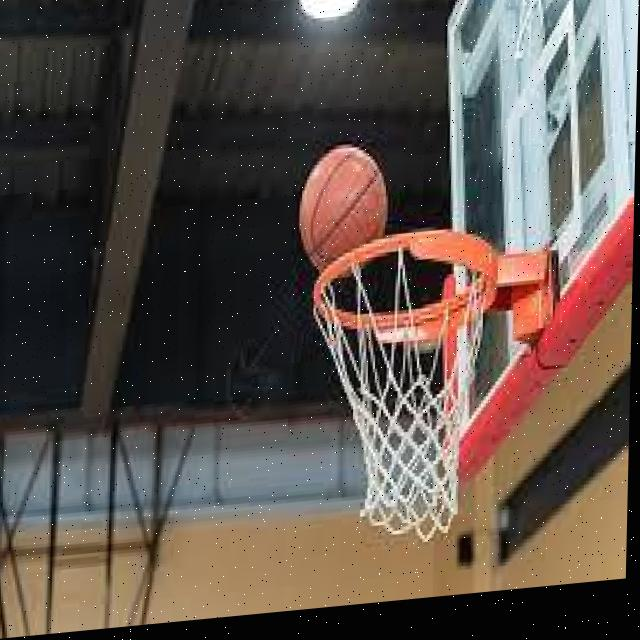basketball: (299, 141, 387, 250)
hoop: (304, 221, 492, 553)
